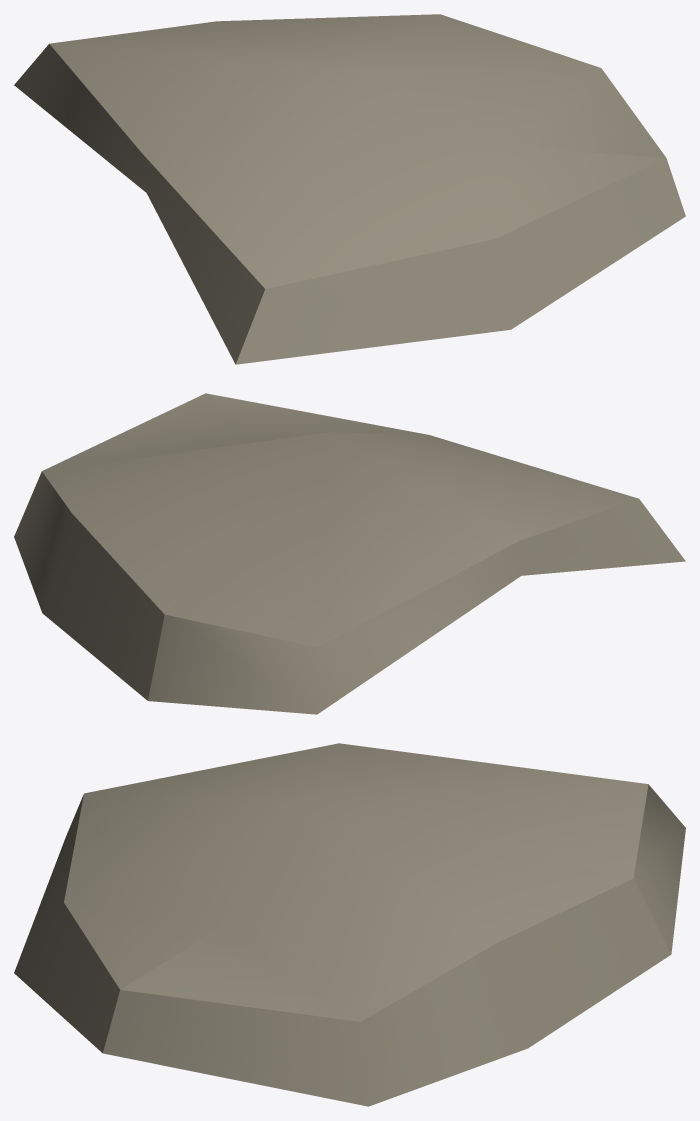
The model's file is Stones_1e.fbx.
3 views of the same model, one above another, from view 1: azimuth 30°, elevation 25°; view 2: azimuth 150°, elevation 25°; view 3: azimuth 270°, elevation 25° (orthographic). The views are drawn at different scales.
Visible parts, largest first — view 1: Stones_1e; view 2: Stones_1e; view 3: Stones_1e.
Part boxes in pixels (x1,y1,x2,y2): Stones_1e: (14, 14, 685, 364); Stones_1e: (14, 393, 685, 714); Stones_1e: (14, 743, 685, 1106).
Bounding box in the file's own units: 44.06 × 12.6 × 46.15.
